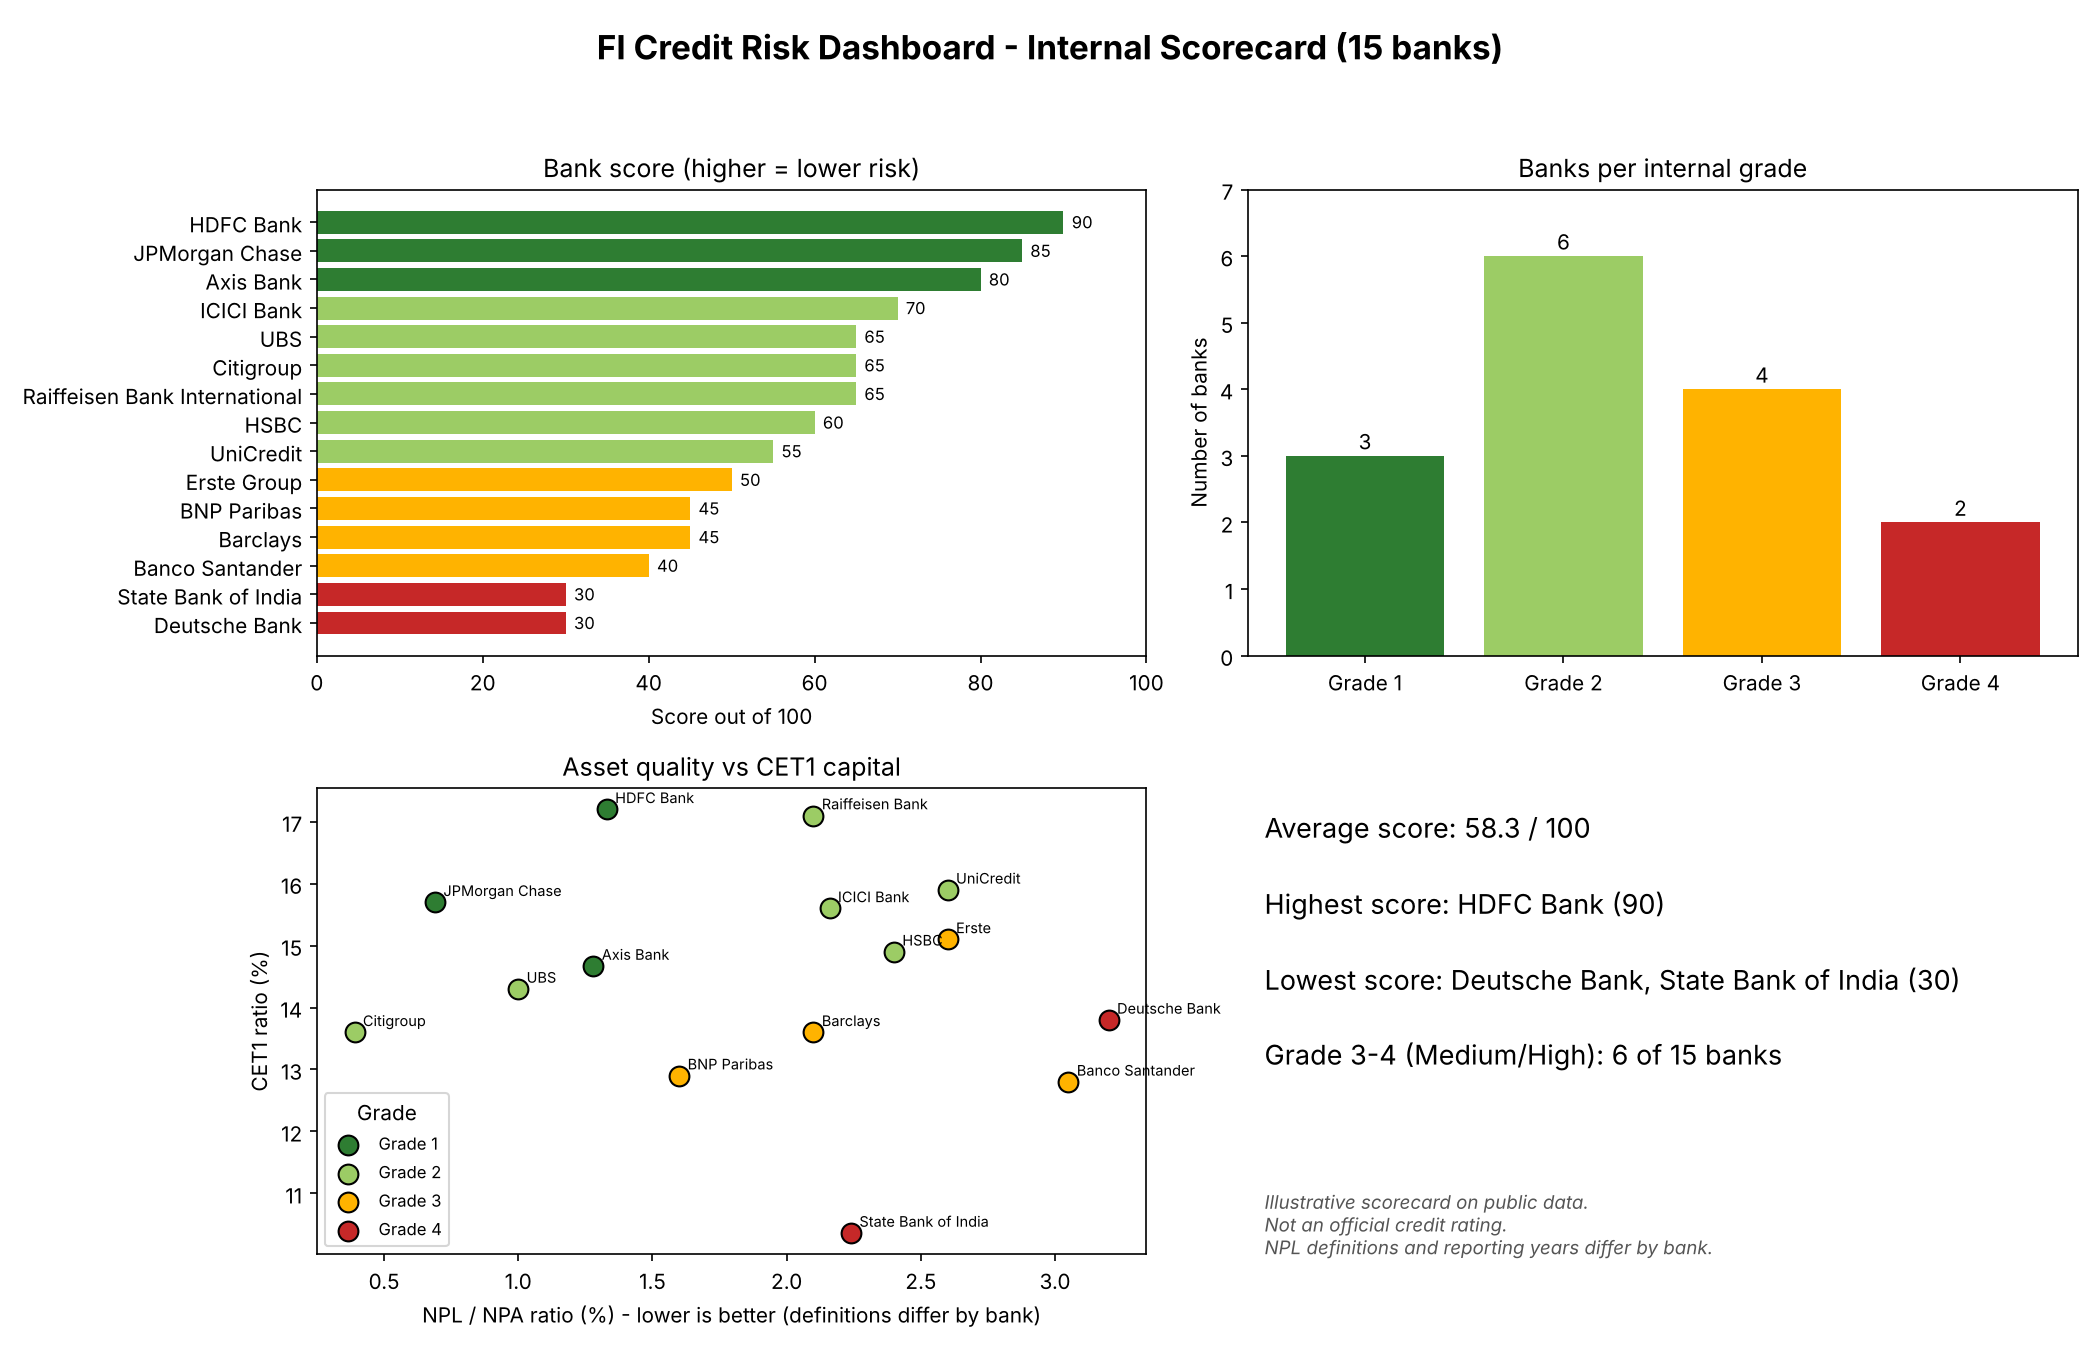

The dashboard page shown, as its layout file describes it:
{"tool":"powerbi","page":{"name":"Page 1","canvas":[1920,1080],"ordinal":0},"visuals":[{"type":"cardVisual","fields":{"Data":["scored_banks.Banks"]},"box":[5.1,462.1,398.3,298.7],"z":0},{"type":"cardVisual","fields":{"Data":["scored_banks.Average Score"]},"box":[817,464.7,395.2,290.2],"z":1000},{"type":"cardVisual","fields":{"Data":["scored_banks.Average CET1 %"]},"box":[1565.1,163.4,354.9,298.7],"z":2000},{"type":"cardVisual","fields":{"Data":["scored_banks.High Risk Banks"]},"box":[403.4,462.1,430.2,298.5],"z":3000},{"type":"clusteredBarChart","fields":{"Category":["scored_banks.Bank_Name"],"Series":["scored_banks.Grade Short"],"Y":["Sum(scored_banks.Score)"]},"box":[5.1,150.6,398.3,301.3],"z":4000},{"type":"clusteredColumnChart","fields":{"Category":["scored_banks.Grade Short"],"Y":["CountNonNull(scored_banks.Bank_Name)"]},"box":[403.4,150.6,430.2,300.5],"z":5000},{"type":"scatterChart","fields":{"Category":["scored_banks.Bank_Name"],"Series":["scored_banks.Grade Short"],"X":["Avg(scored_banks.NPA_Percent)"],"Y":["Avg(scored_banks.CET1_Percent)"]},"box":[1197.4,469.8,391.1,290.2],"z":6000},{"type":"slicer","fields":{"Values":["scored_banks.Country"]},"box":[1156.6,150.6,391.1,284],"z":7000},{"type":"slicer","fields":{"Values":["scored_banks.Grade Short"]},"box":[832.3,150.6,366.4,284],"z":8000},{"type":"textbox","box":[441.7,863,952.3,217],"z":12000},{"type":"textbox","box":[70,0,1729,72],"z":14001}]}

Visuals, with their boxes in screenshot pixels (x1, y1, x2, y2):
cardVisual - scored_banks.Banks: (0, 661, 310, 972)
cardVisual - scored_banks.Average Score: (741, 664, 1152, 966)
cardVisual - scored_banks.Average CET1 %: (1519, 350, 1888, 661)
cardVisual - scored_banks.High Risk Banks: (310, 661, 758, 972)
clusteredBarChart - scored_banks.Bank_Name x scored_banks.Grade Short: (0, 337, 310, 651)
clusteredColumnChart - scored_banks.Grade Short x CountNonNull(scored_banks.Bank_Name): (310, 337, 758, 650)
scatterChart - scored_banks.Bank_Name x scored_banks.Grade Short: (1136, 669, 1543, 971)
slicer - scored_banks.Country: (1094, 337, 1501, 633)
slicer - scored_banks.Grade Short: (757, 337, 1138, 633)
textbox: (350, 1078, 1341, 1304)
textbox: (0, 180, 1762, 255)
